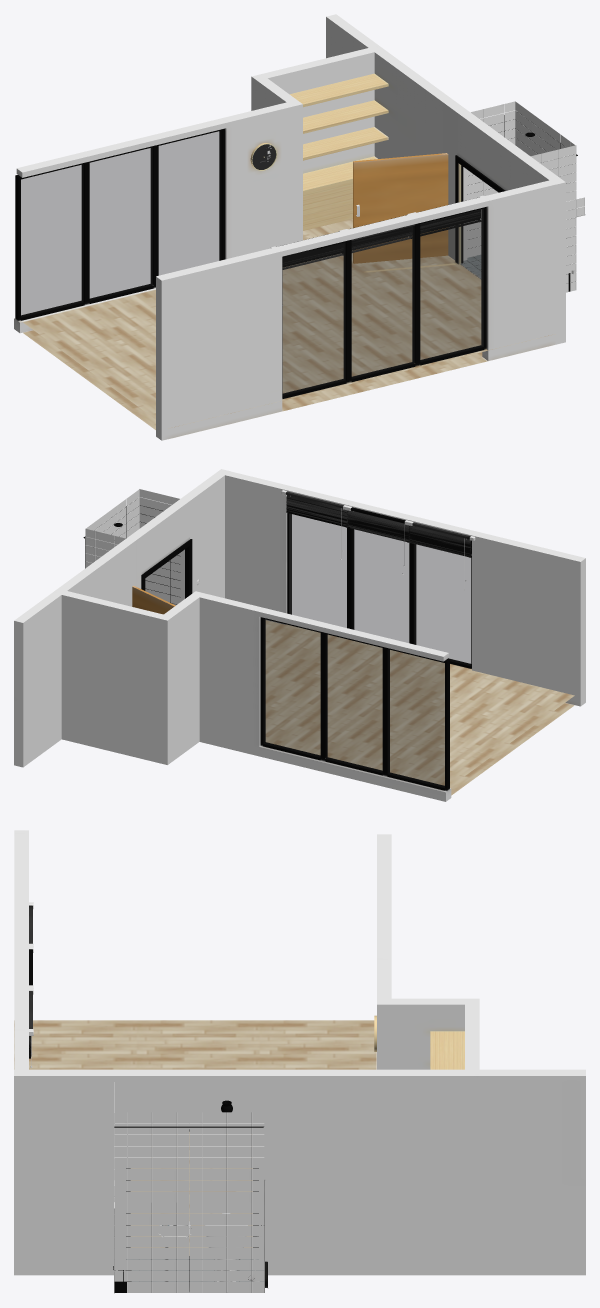
Rendered from Streinergltf.gltf.
The picture shows the model from 3 angles, top to bottom: view 1: azimuth 30°, elevation 25°; view 2: azimuth 150°, elevation 25°; view 3: azimuth 270°, elevation 25°; orthographic projection. The views are drawn at different scales.
Parts seen in each view (by area): view 1: Walls10, BathroomDoor_BathroomDoor1; view 2: Walls10, BathroomDoor_BathroomDoor1; view 3: Walls10.
Boxes of the visible parts, x1,y1,x2,y2 form: Walls10: (14,14,585,440); BathroomDoor_BathroomDoor1: (353,153,448,263); Walls10: (14,469,585,801); BathroomDoor_BathroomDoor1: (132,585,175,614); Walls10: (14,830,585,1293).
Bounding box in the file's own units: 9.1 × 3 × 7.8.
Materials: 1 (1 with a texture image).
